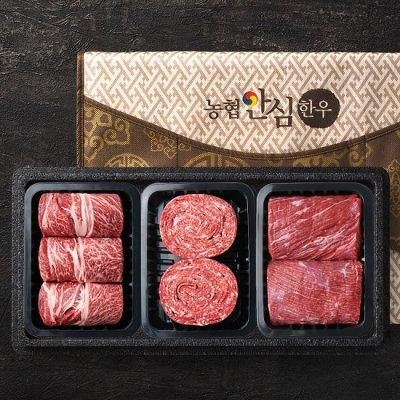beef: (167, 161, 227, 204), (168, 123, 227, 161), (99, 161, 149, 204), (99, 122, 149, 161), (23, 120, 79, 149), (24, 149, 79, 176), (24, 176, 78, 203)
